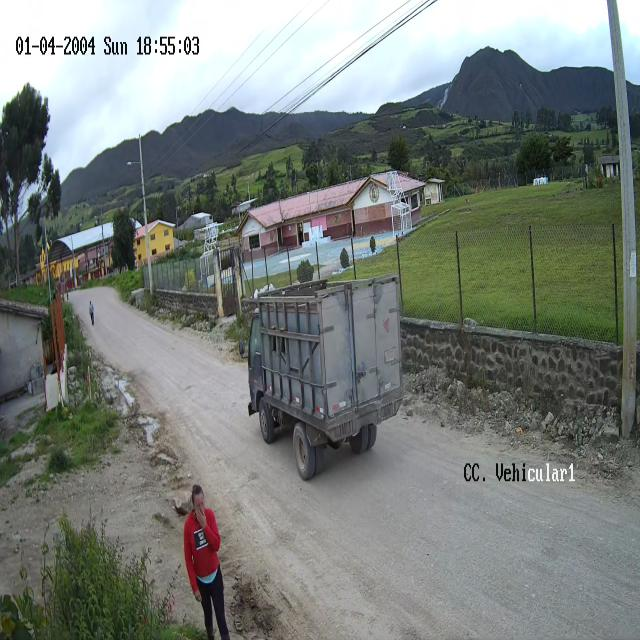TRUCK: (247, 272, 403, 481)
